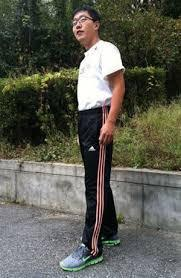Tshirt: (76, 40, 127, 113)
pants: (76, 106, 120, 248)
